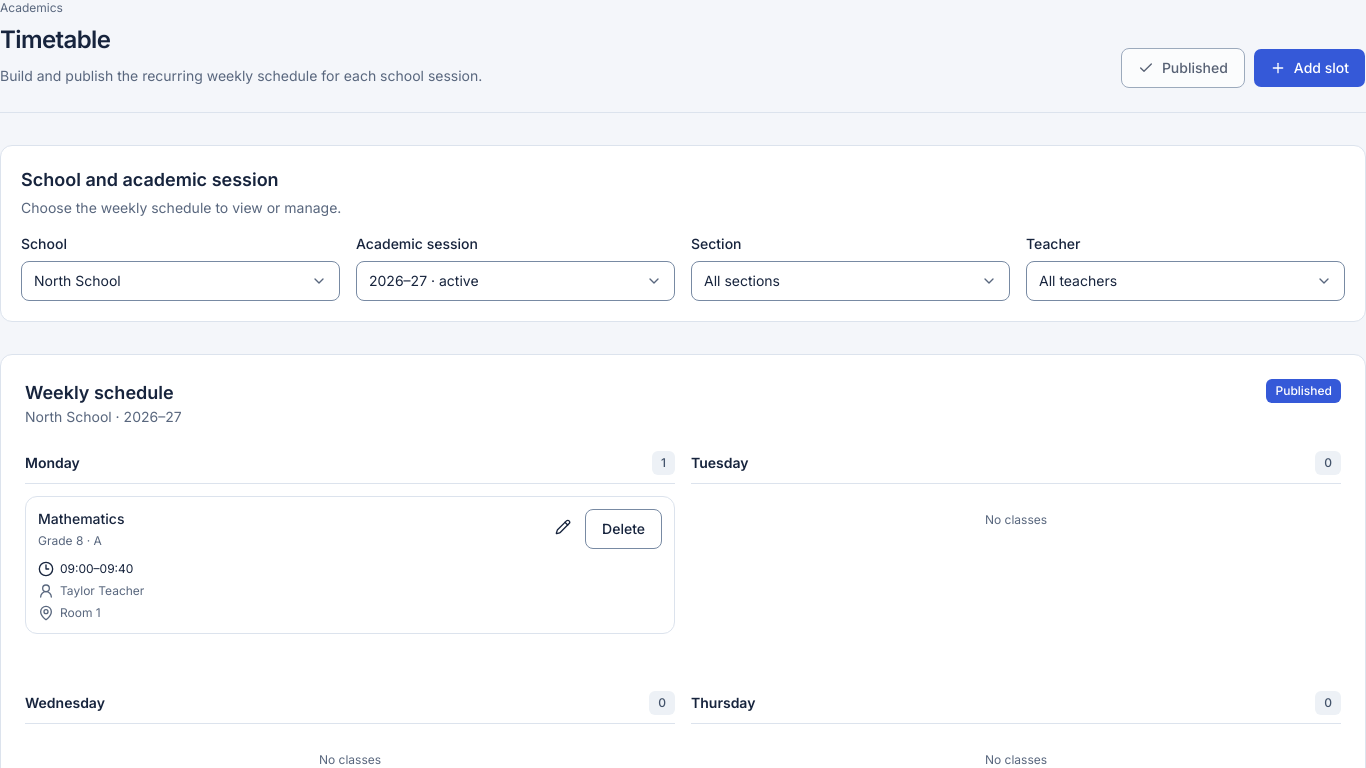
Test case: timetable workspace › shows the published timetable warning when a manager opens an edit form
The width and height of the screenshot is (1366, 768).
Click the button named "Edit Mathematics". click: (563, 527)
box: 545,509 -> 581,545
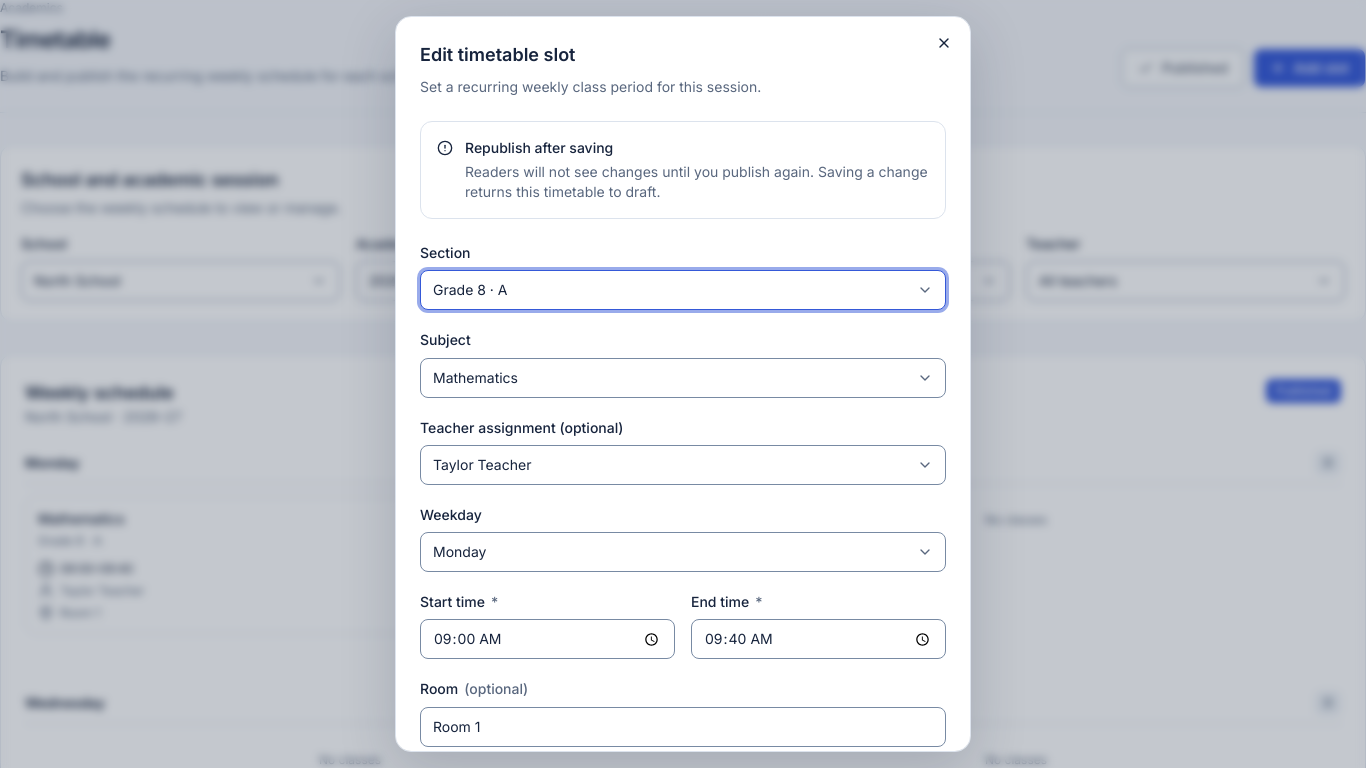
Now the text "Readers will not see changes until you publish again" is shown, box 465,163 -> 928,200
Now the dropdown named "Section" shows "Grade 8 · A", box 420,270 -> 946,310
Now the dropdown named "Subject" shows "Mathematics", box 420,358 -> 946,398
